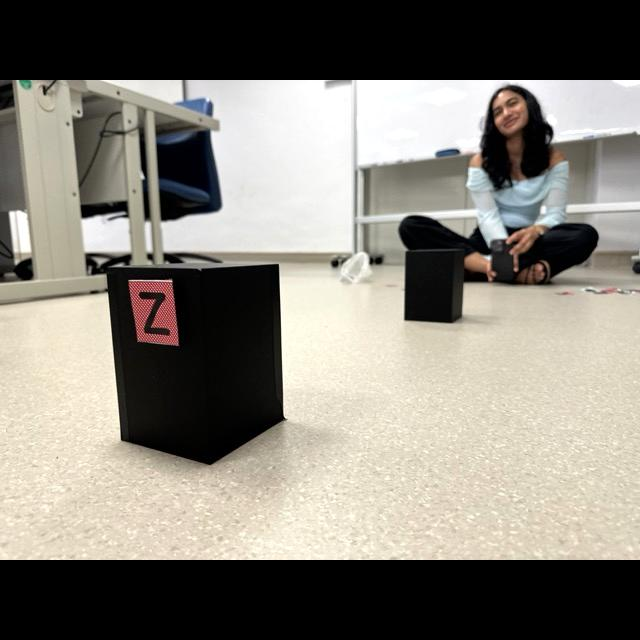Z: (139, 293, 171, 335)
